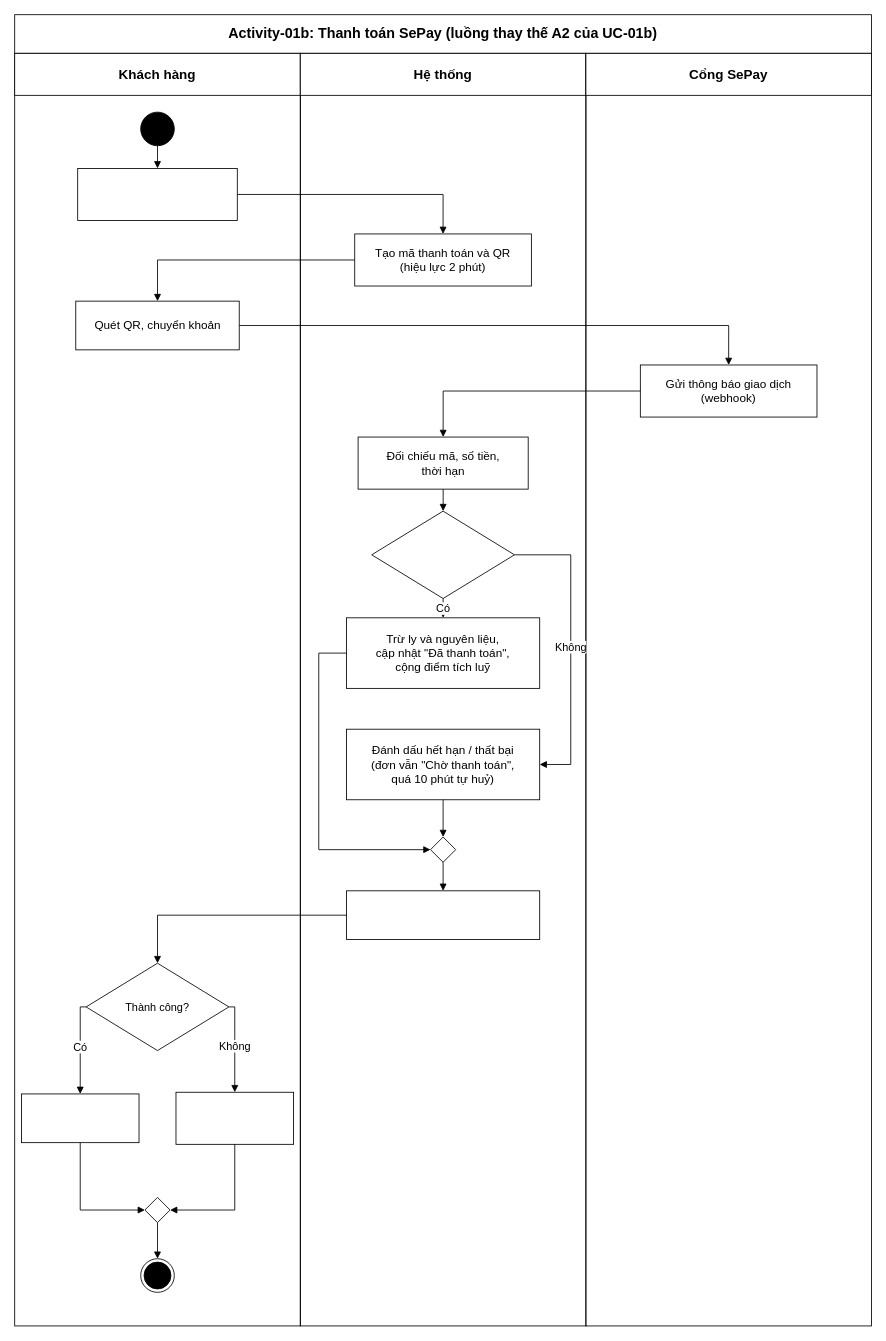
The diagram is 886 pixels wide and 1341 high, and some of its shapes have lost their labels. Each missing label, with the box of its shape:
Chọn SePay, bấm thanh toán: (77, 168, 237, 220)
Hiển thị kết quả thanh toán: (346, 890, 540, 940)
Hợp lệ?: (371, 510, 514, 598)
Tạo lại mã QR hoặc bỏ qua: (175, 1091, 294, 1144)
Xem đơn hàng: (21, 1093, 139, 1143)
